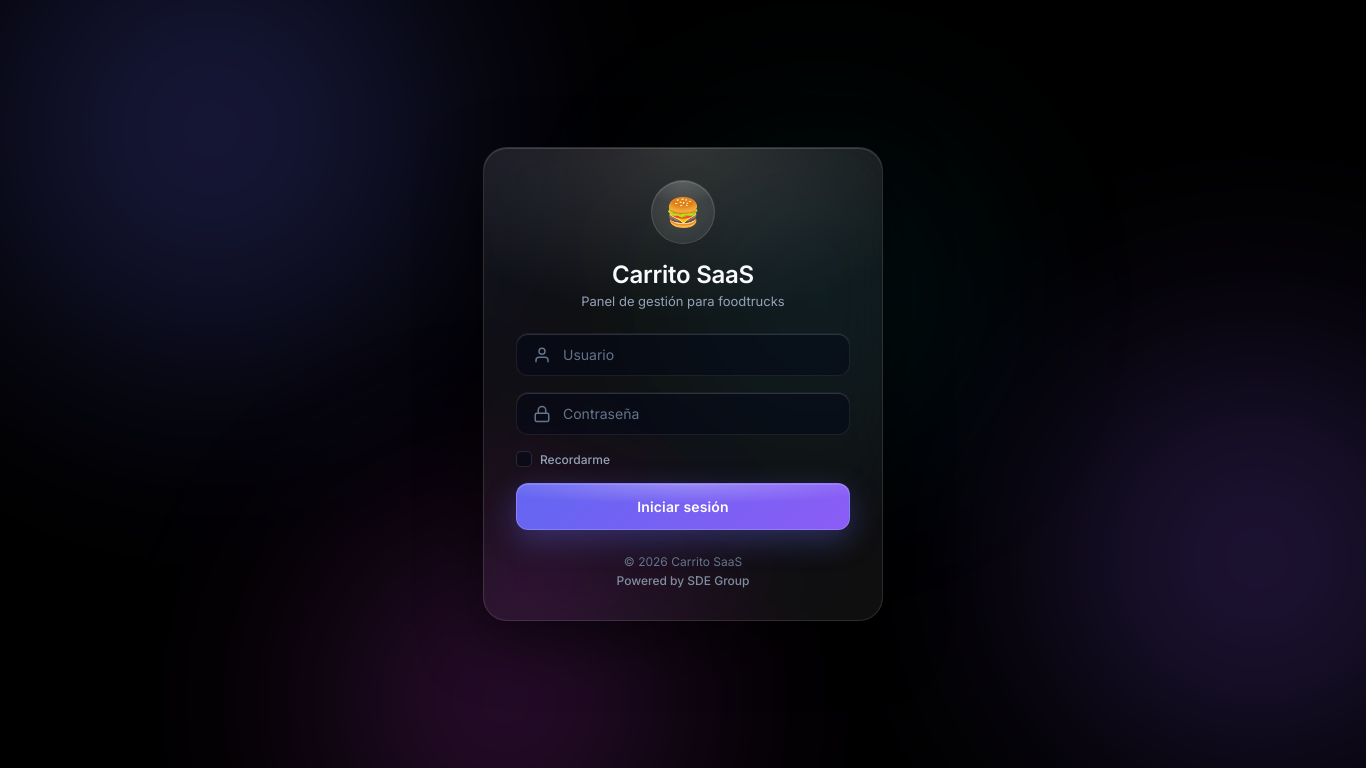
Test case: organic login (login without ?restaurant=) › a URL slug without a slug in the response is NOT stored in "restaurantSlug" (Phase 2)
In the field with placeholder "Usuario": (698, 354) [563,334,833,375], type "demo"
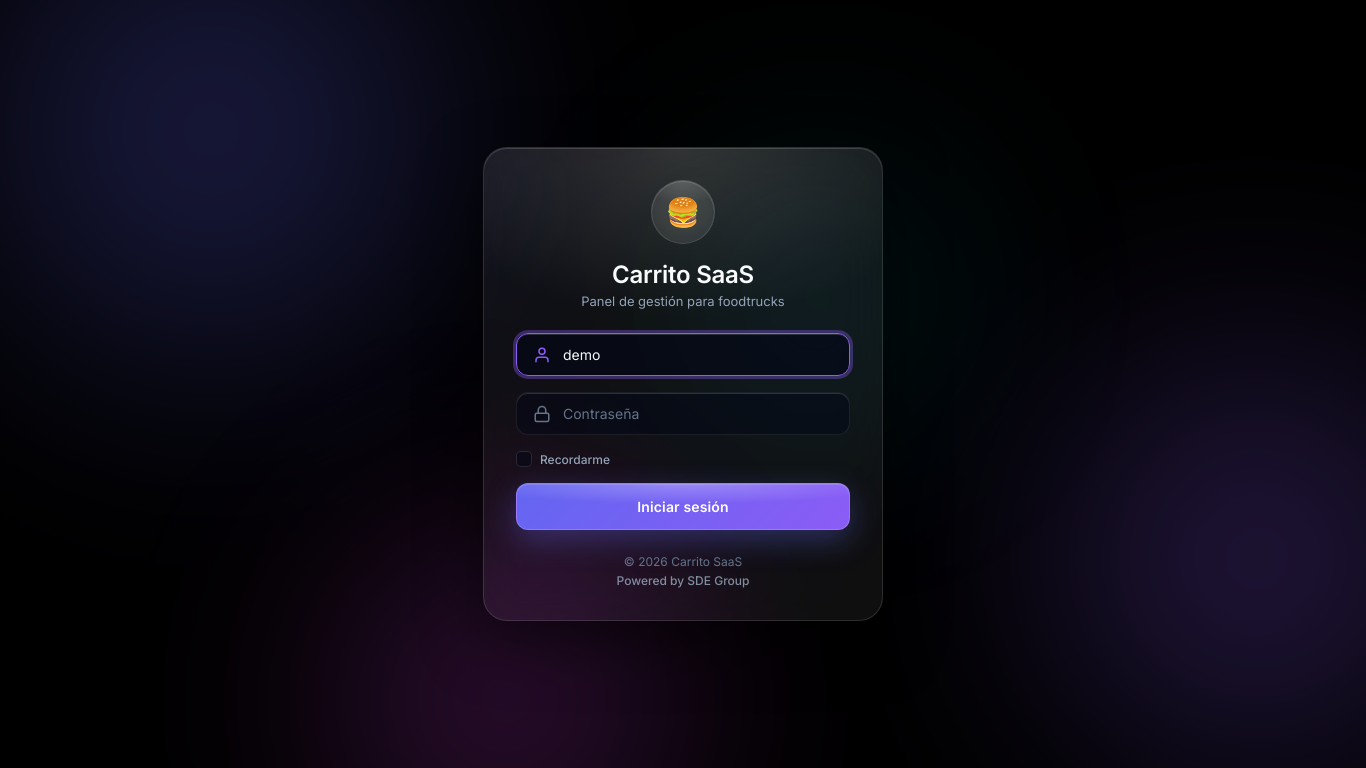
In the password field with placeholder "Contraseña": (698, 414) [563,393,833,434], type "secret"
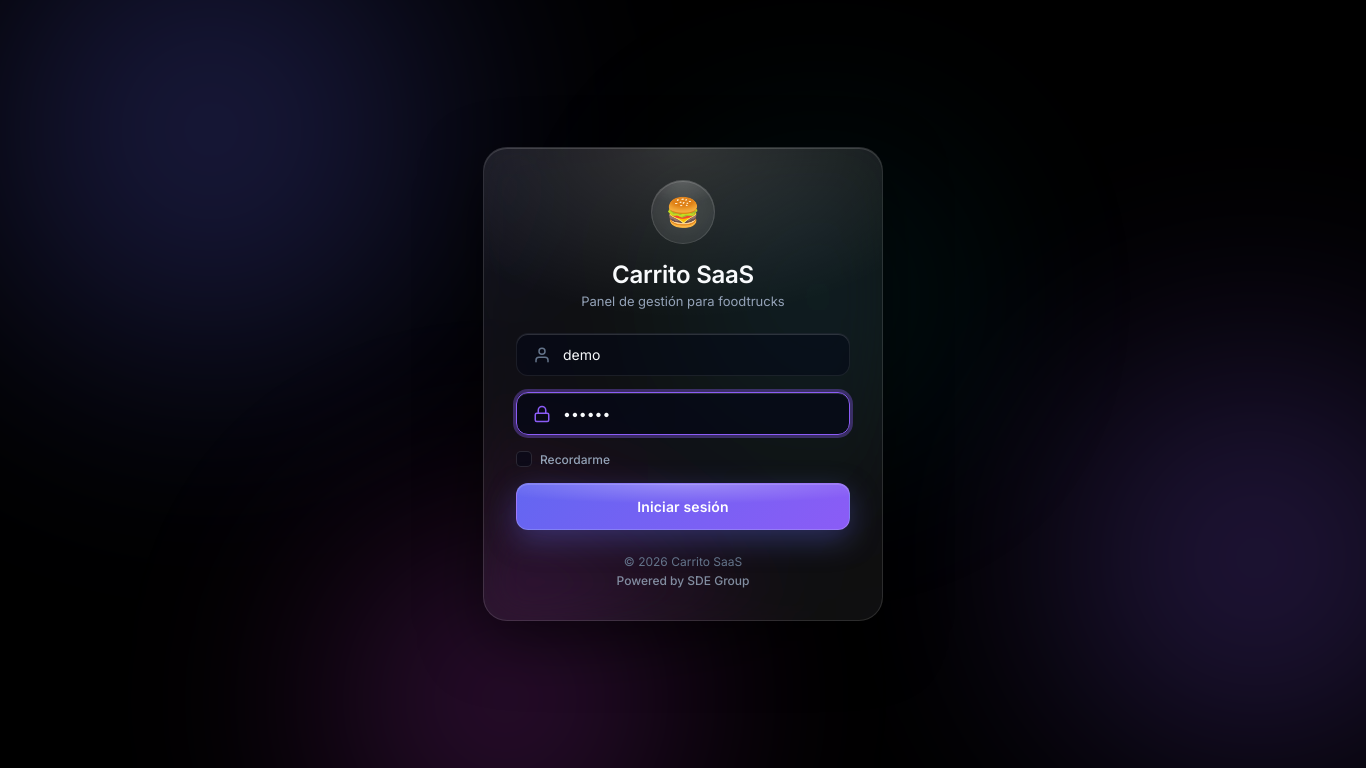
Click the button "Iniciar sesión": (683, 506) [516,483,850,530]
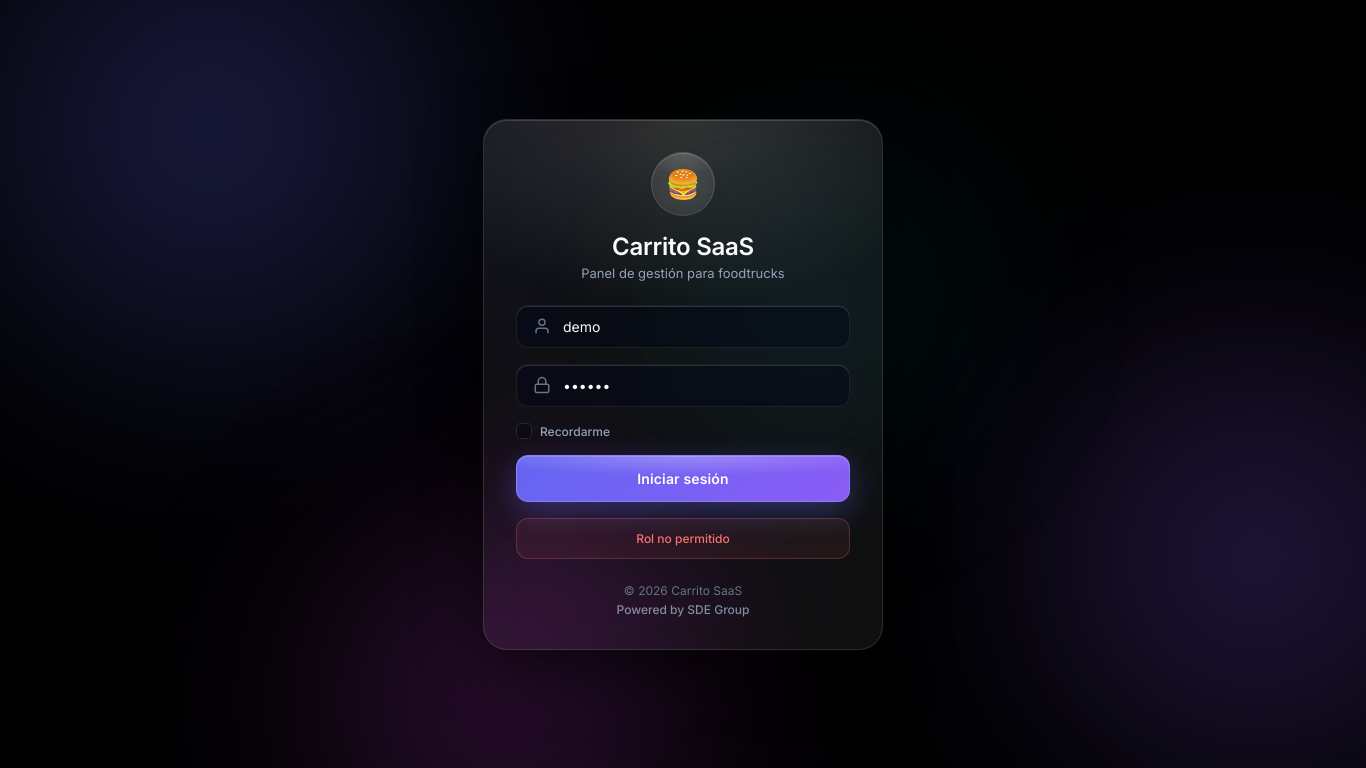
Result: the text "Rol no permitido" is shown at [516,518,850,558]
